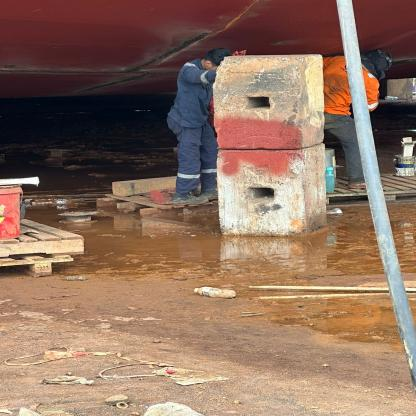bota: (171, 192, 209, 207)
